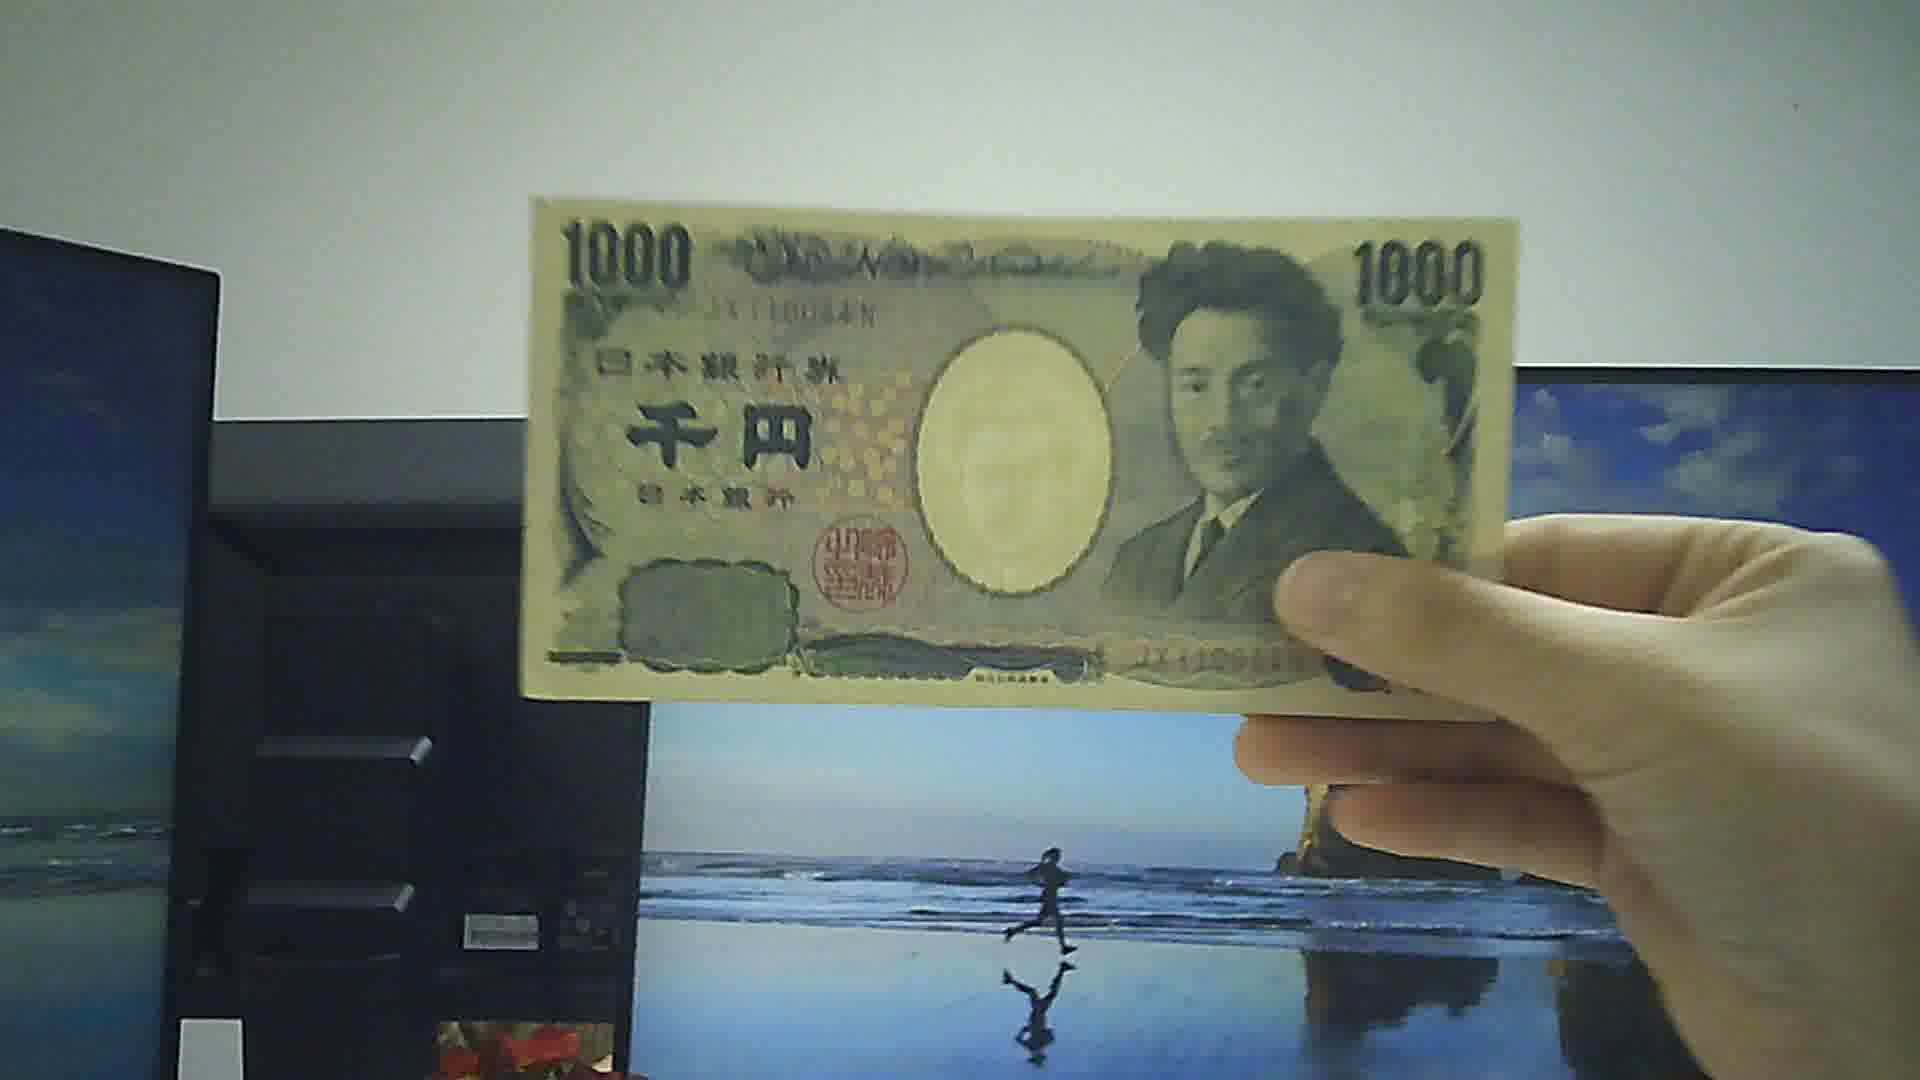1,000 Yen: (517, 196, 1534, 720)
